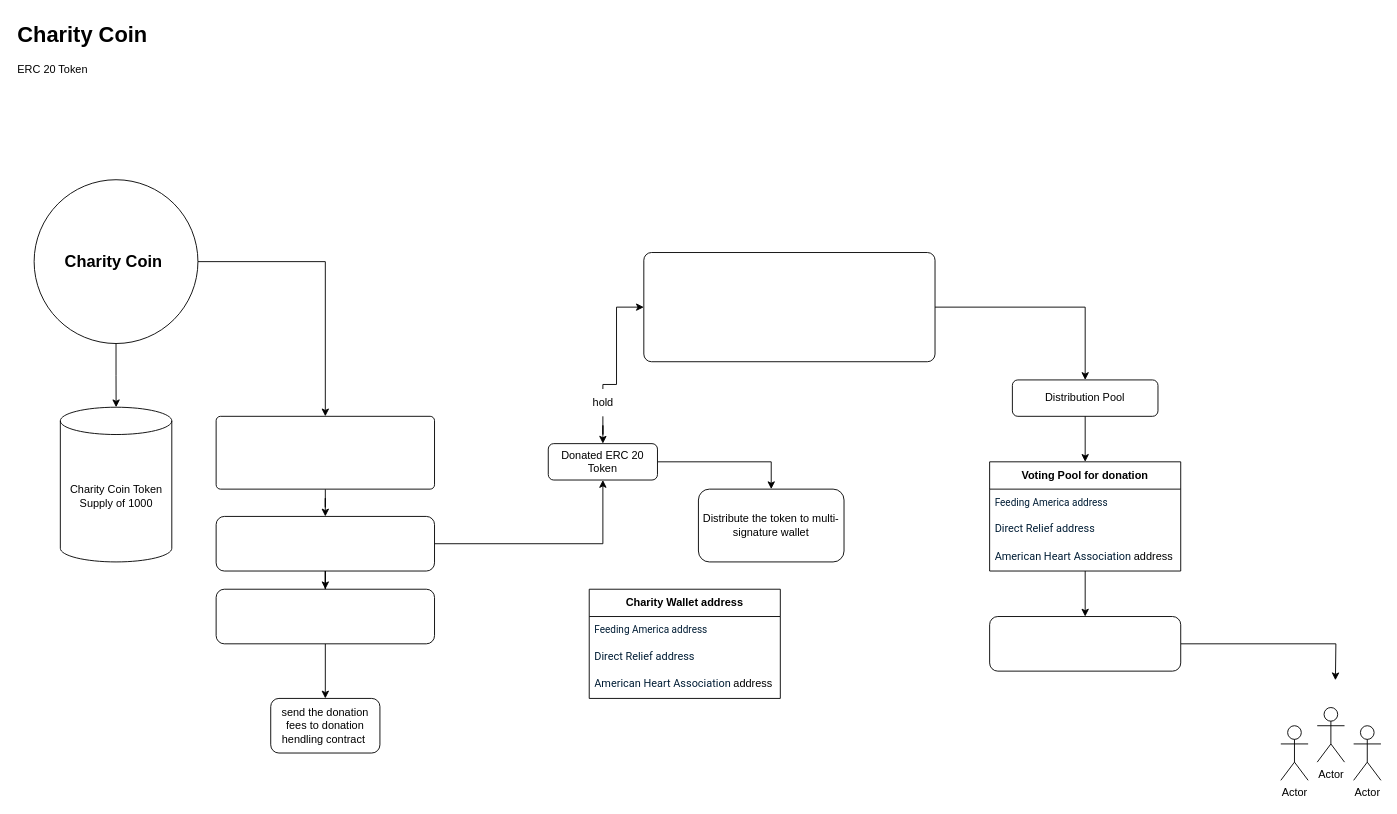
The diagram is 1397 pixels wide and 814 high, and some of its shapes have lost their labels. The centre of each missing label's shape, as x and y in pixels:
"Donation pool" goes at (789,307).
"Max Tranection amount will be 5% of the total supply." goes at (325,616).
"on transection deduct 1% donation fees" goes at (325,543).
"Transection Feature" goes at (325,452).
"Transfer amount of ERC20 token to highly bid token" goes at (1085,643).
